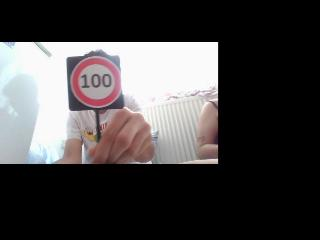Speedlimit_100: (68, 56, 124, 110)
